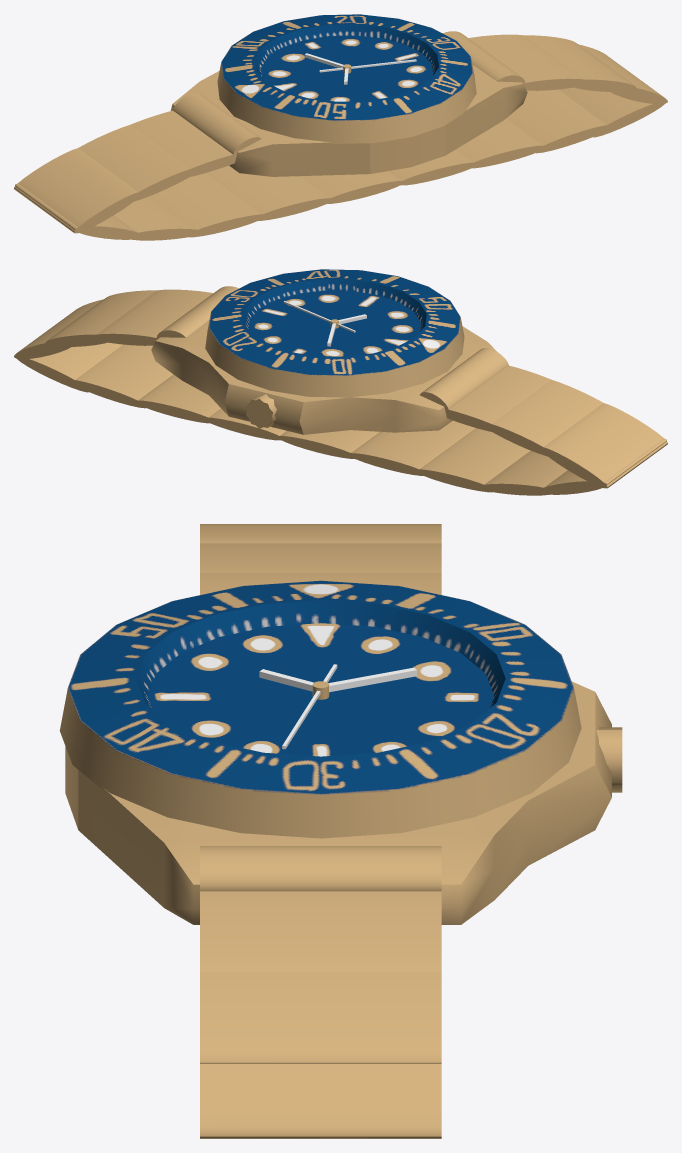
The model's file is Watch.fbx.
The picture shows the model from 3 angles, top to bottom: view 1: azimuth 30°, elevation 25°; view 2: azimuth 150°, elevation 25°; view 3: azimuth 270°, elevation 25°; orthographic projection. The views are drawn at different scales.
Visible parts, largest first — view 1: Watch; view 2: Watch; view 3: Watch.
Boxes of the visible parts, x1,y1,x2,y2 form: Watch: (14, 14, 667, 240); Watch: (14, 269, 667, 495); Watch: (59, 524, 622, 1138).
Size of the model in its own units: 0.2438 by 0.0429 by 0.1.
1 material, 1 textured.
